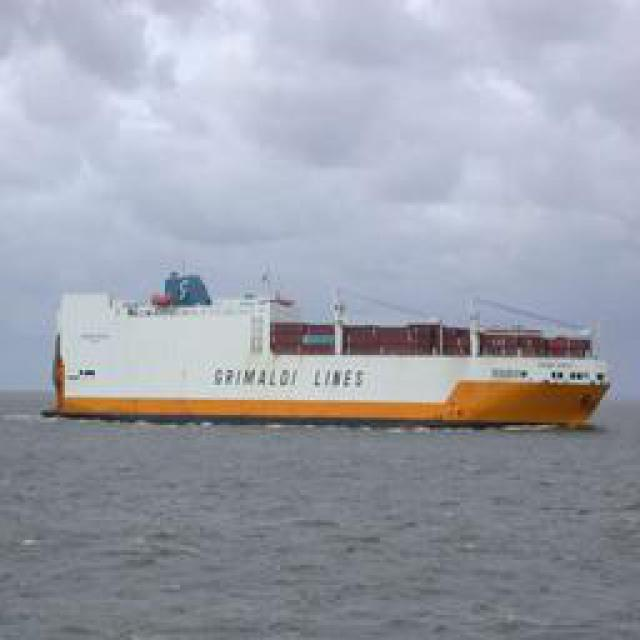Ship: (48, 271, 596, 429)
